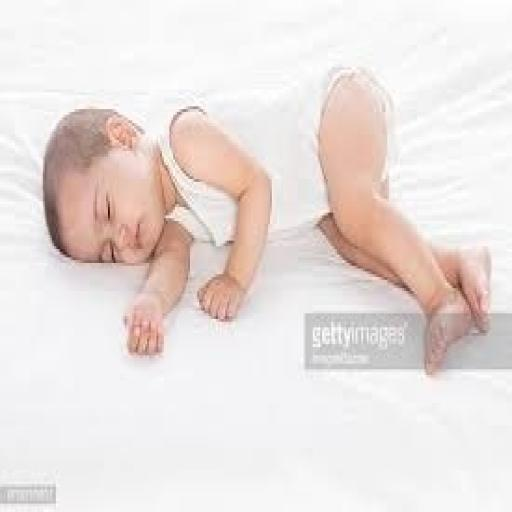sleeping: (39, 59, 493, 375)
